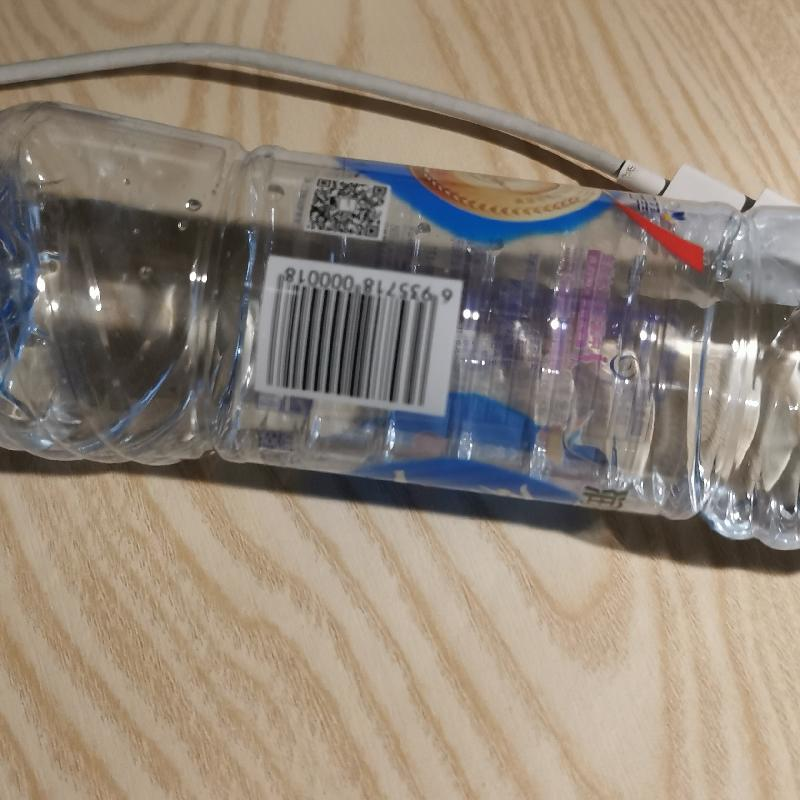bottles: (0, 92, 799, 559)
